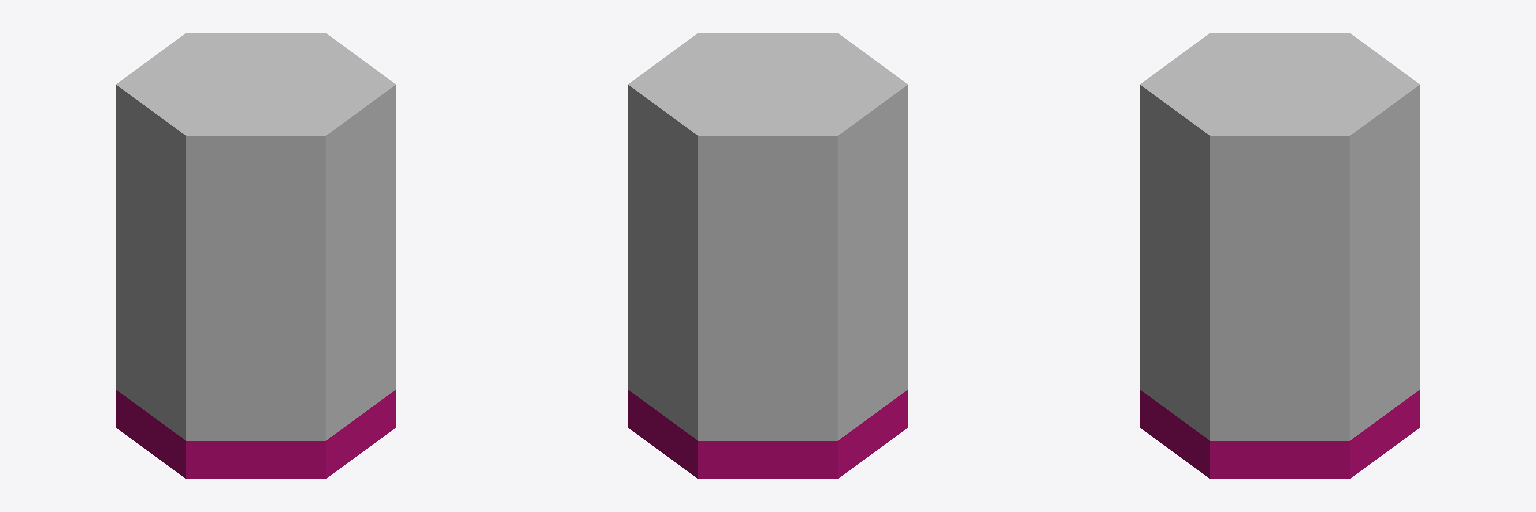
Rendered from WaterTile.obj.
3 renders of one model, left to right at view 1: azimuth 30°, elevation 25°; view 2: azimuth 150°, elevation 25°; view 3: azimuth 270°, elevation 25°, orthographic.
Visible parts, largest first — view 1: Cylinder.003; view 2: Cylinder.003; view 3: Cylinder.003.
Part boxes in pixels (x1,y1,x2,y2): Cylinder.003: (116,33,395,478); Cylinder.003: (628,33,907,478); Cylinder.003: (1140,33,1419,478).
Bounding box in the file's own units: 1.73 × 2.7 × 2.